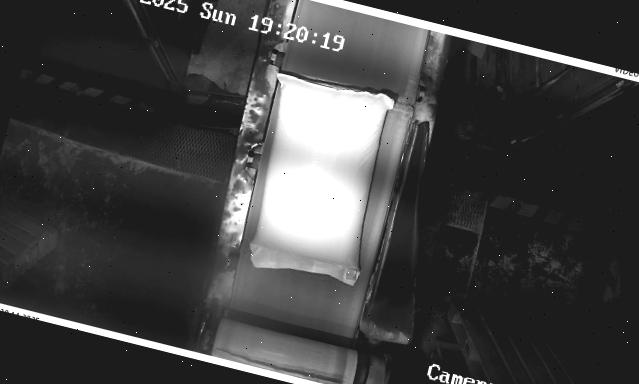bag: (230, 68, 404, 292)
